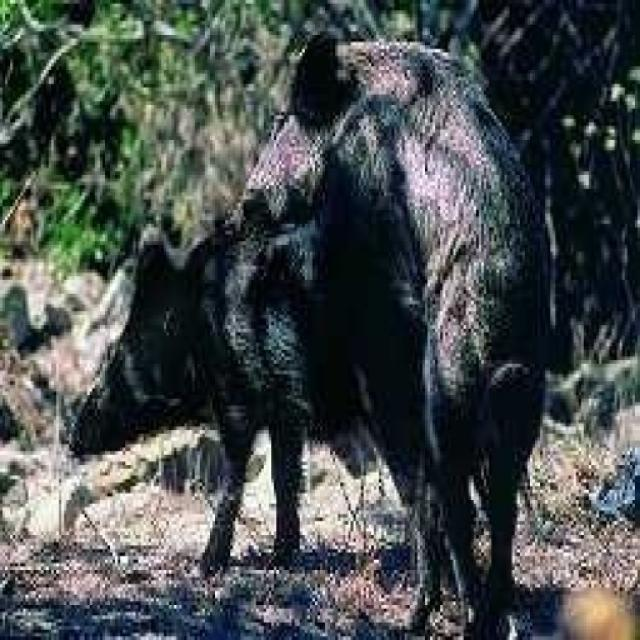pig: (246, 11, 592, 598), (65, 157, 436, 605)
